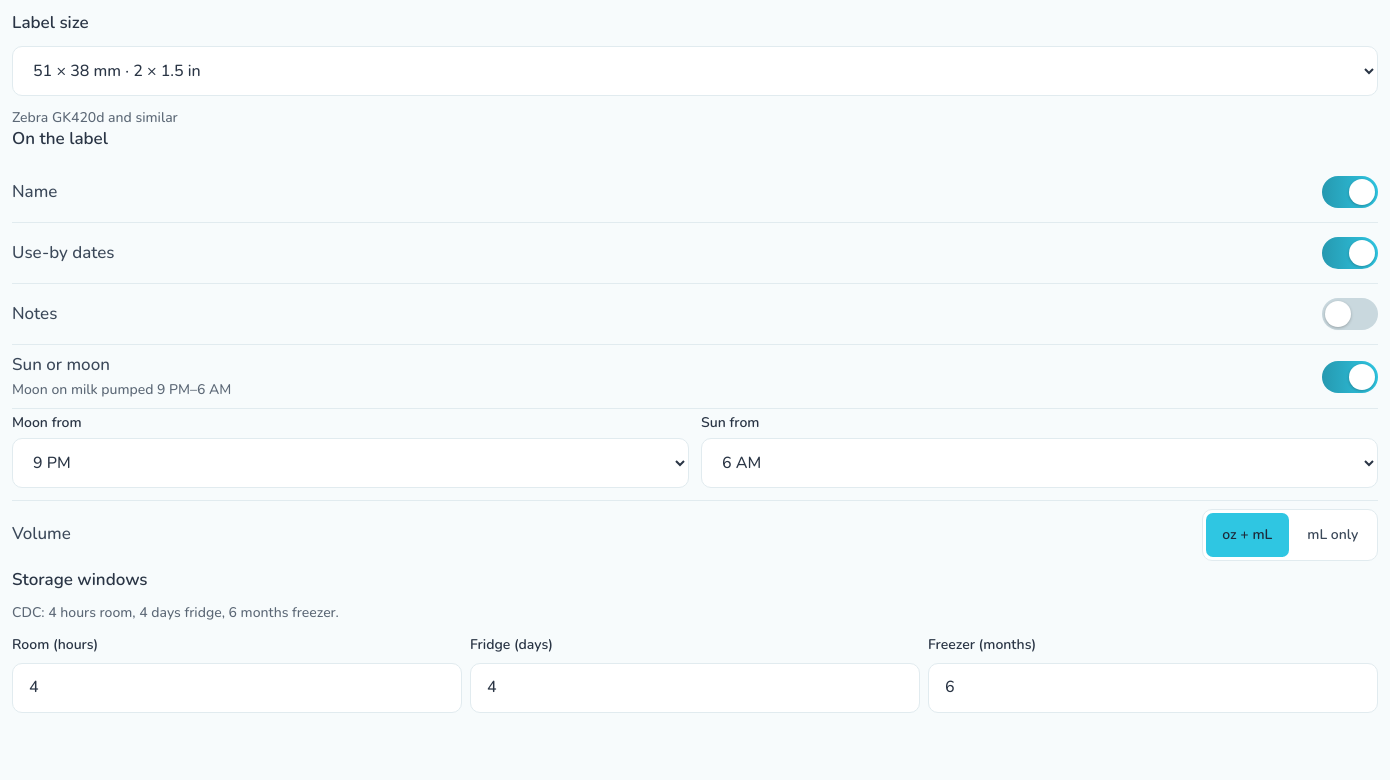
Test case: Settings › Milk labels › Storage windows › never stores an out-of-range window: leaving the field puts the saved value back and says why
Step 1. Replace the text in the number field labelled "Room (hours)" with "46" → {"x": 237, "y": 688}, box x1=12 y1=663 x2=462 y2=713
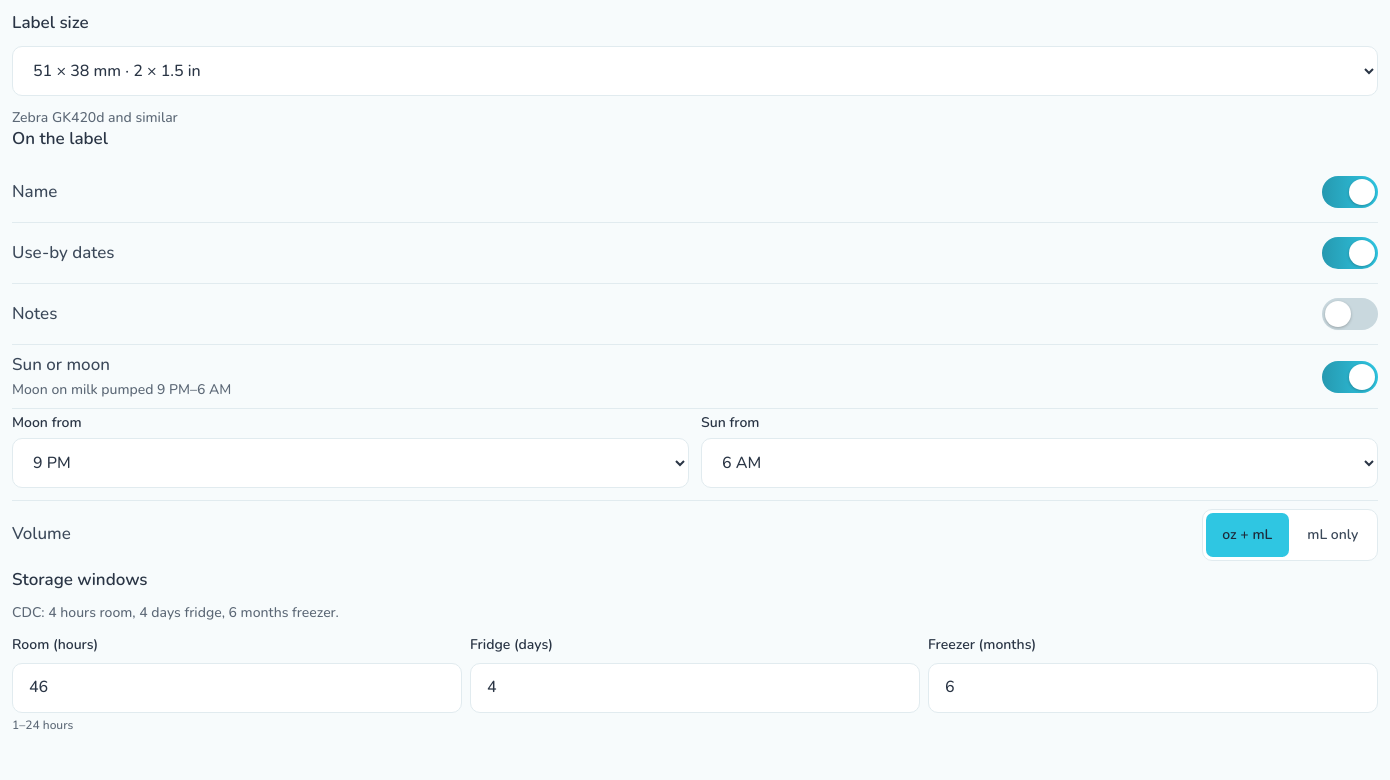
expect the text "1–24 hours" is shown: met, box x1=12 y1=717 x2=73 y2=733
Step 2. Leave the number field labelled "Room (hours)", box x1=12 y1=663 x2=462 y2=713
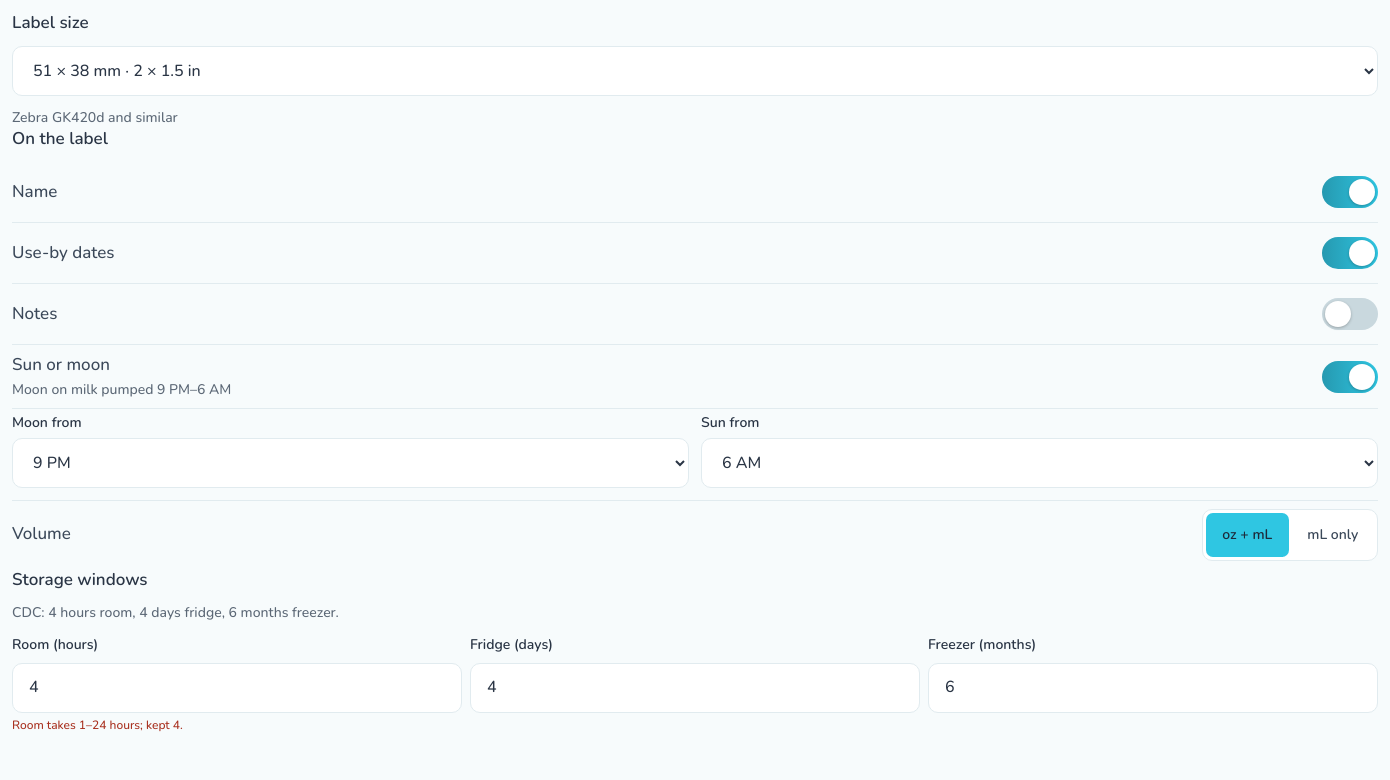
expect the number field labelled "Room (hours)" holds "4": met, box x1=12 y1=663 x2=462 y2=713
expect the message shows "Room takes 1–24 hours; kept 4": met, box x1=12 y1=717 x2=183 y2=733
